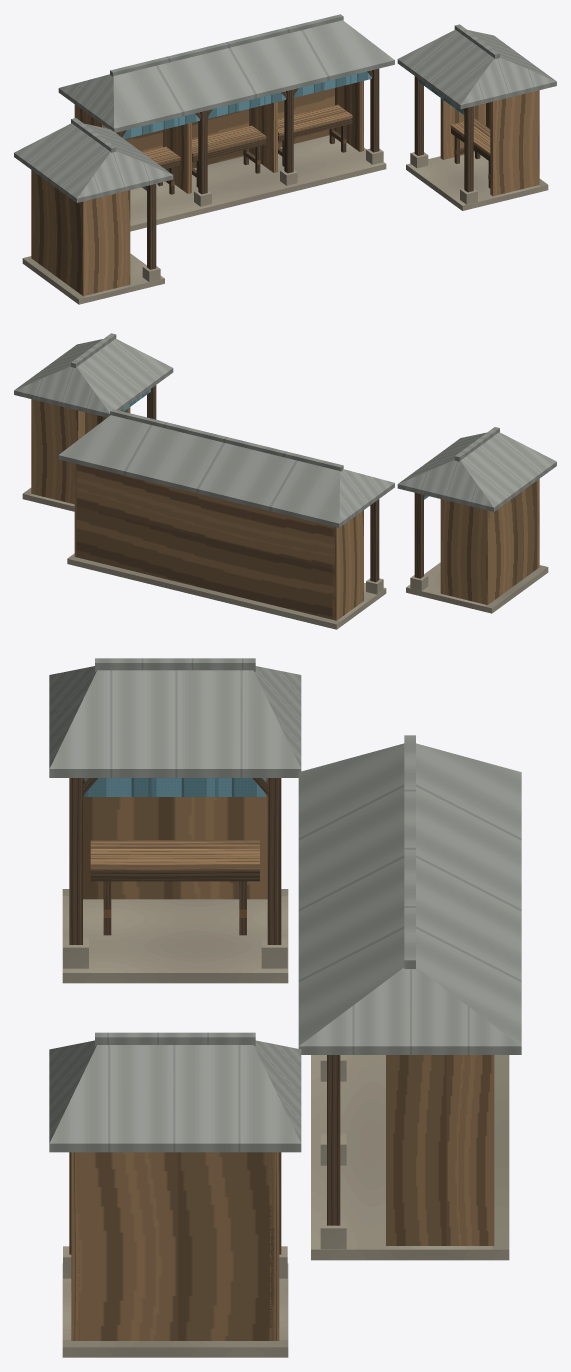
The picture shows the model from 3 angles, top to bottom: view 1: azimuth 30°, elevation 25°; view 2: azimuth 150°, elevation 25°; view 3: azimuth 270°, elevation 25°; orthographic projection. The views are drawn at different scales.
Visible parts, largest first — view 1: dar-es-salaam; view 2: dar-es-salaam; view 3: dar-es-salaam.
Boxes of the visible parts, x1,y1,x2,y2 form: dar-es-salaam: (14,14,556,304); dar-es-salaam: (14,333,556,629); dar-es-salaam: (49,658,521,1357).
Bounding box in the file's own units: 7.4 × 2.07 × 3.15.
1 material, 1 textured.
